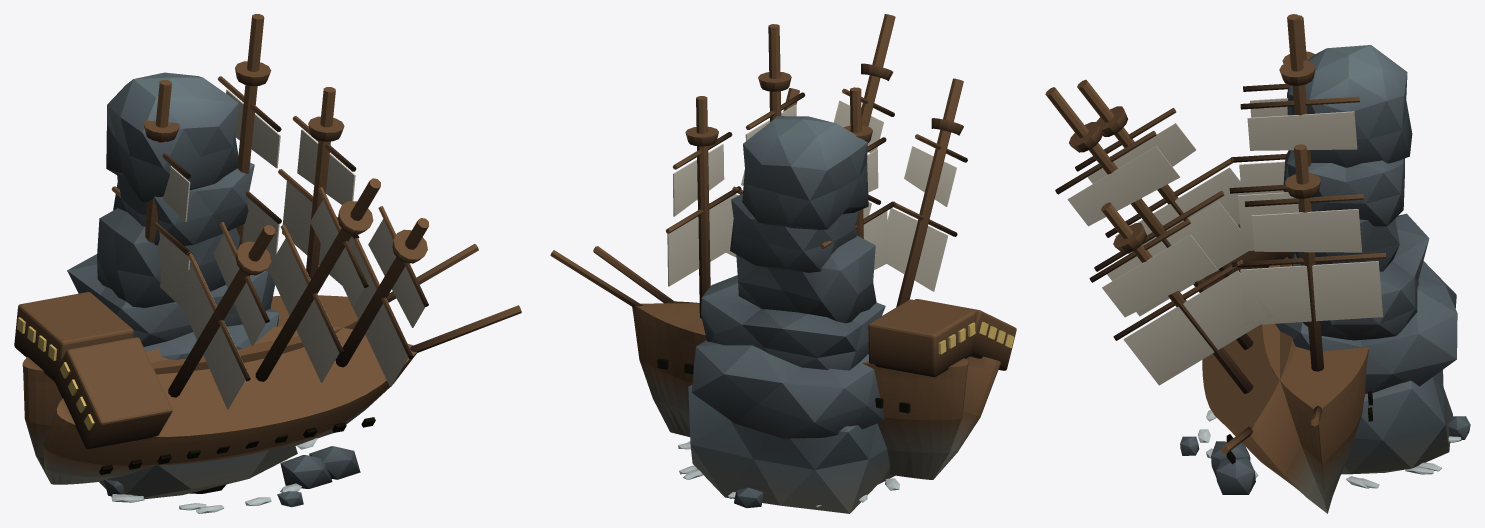
The model's file is coast-s4-By7J8fCd.glb.
The picture shows the model from 3 angles, left to right: view 1: azimuth 30°, elevation 25°; view 2: azimuth 150°, elevation 25°; view 3: azimuth 270°, elevation 25°; orthographic projection. The views are drawn at different scales.
Visible parts, largest first — view 1: sc_galleon, sc_stack_0, sc_galleon_up; view 2: sc_stack_0, sc_galleon_up, sc_galleon; view 3: sc_galleon, sc_stack_0, sc_galleon_up.
Part boxes in pixels (x1=…): sc_galleon: x1=43, y1=178, x2=521, y2=484; sc_stack_0: x1=67, y1=72, x2=360, y2=513; sc_galleon_up: x1=14, y1=14, x2=478, y2=482; sc_stack_0: x1=678, y1=116, x2=899, y2=513; sc_galleon_up: x1=550, y1=24, x2=975, y2=479; sc_galleon: x1=593, y1=14, x2=1016, y2=478; sc_galleon: x1=1045, y1=79, x2=1327, y2=513; sc_stack_0: x1=1180, y1=45, x2=1470, y2=494; sc_galleon_up: x1=1229, y1=14, x2=1386, y2=513.
Bounding box in the file's own units: 74.63 × 73.9 × 60.66.
